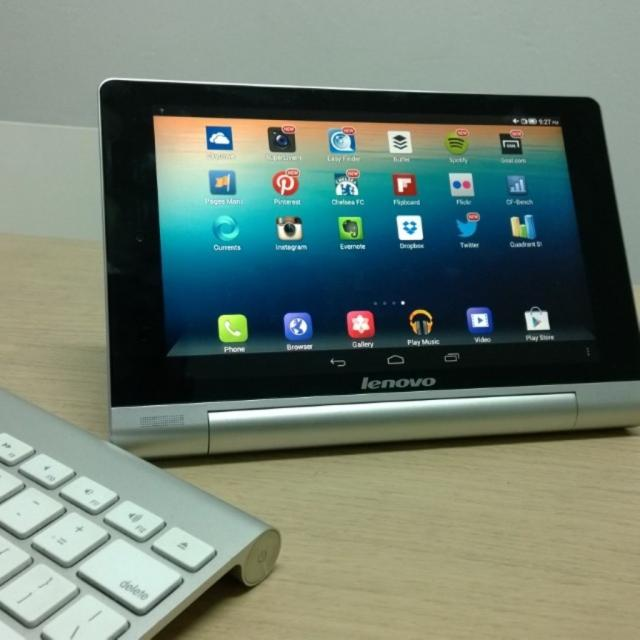Mobile-phone: (108, 94, 620, 437)
